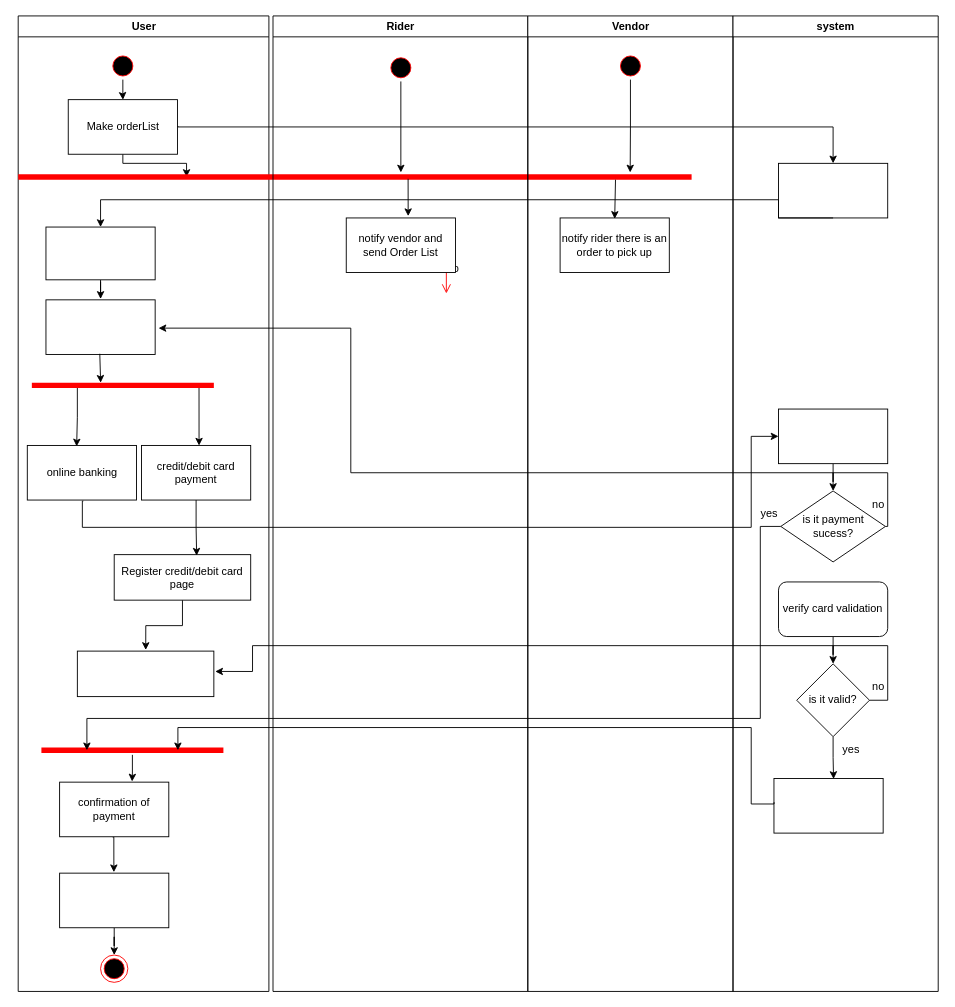
The diagram is 955 pixels wide and 1007 high, and some of its shapes have lost their labels. Here are the shapes that lost their labels. From the top down, the centre of each, then its label:
At [833,190]: "calculate the total payment".
At [100,253]: "display total amount".
At [100,326]: "choose payment method".
At [833,436]: "redirect to third party bank system".
At [145,673]: "Fill in card information form".
At [828,805]: "update card to profile information".
At [114,900]: "give feedback to vendor and rider".
